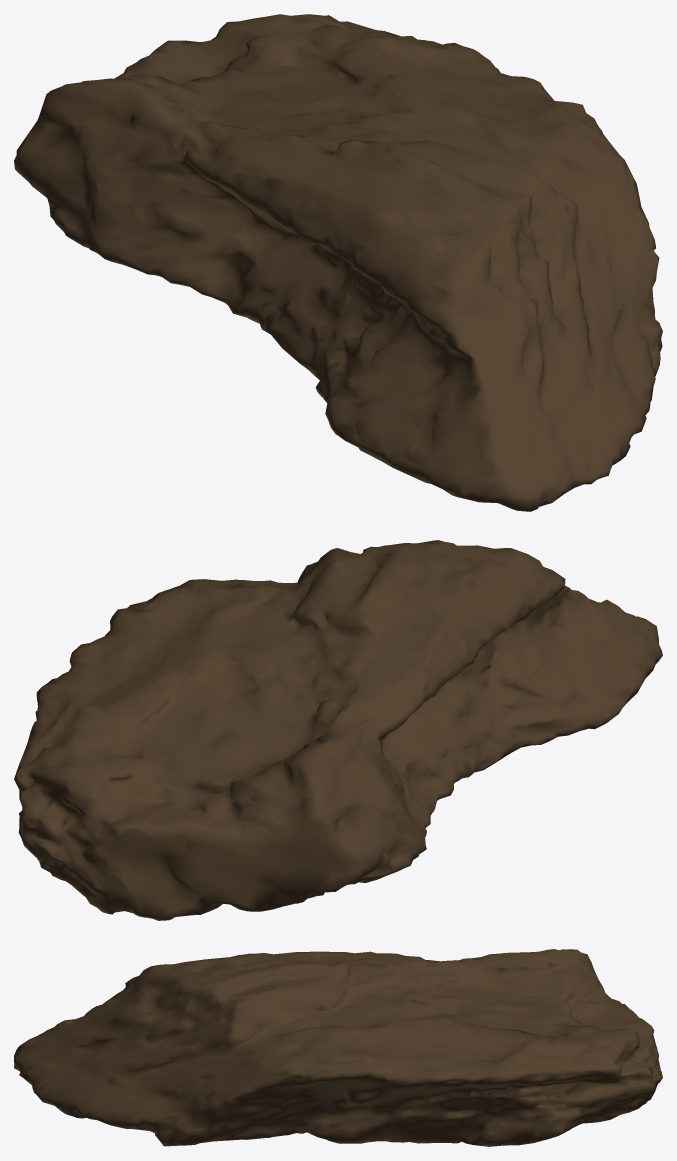
The model's file is rock_09-lod0.glb.
3 renders of one model, top to bottom at view 1: azimuth 30°, elevation 25°; view 2: azimuth 150°, elevation 25°; view 3: azimuth 270°, elevation 25°, orthographic. The views are drawn at different scales.
Visible parts, largest first — view 1: rock_09_LOD0; view 2: rock_09_LOD0; view 3: rock_09_LOD0.
Part boxes in pixels (<box>): rock_09_LOD0: <box>14,14,662,511</box>; rock_09_LOD0: <box>14,540,662,920</box>; rock_09_LOD0: <box>14,949,662,1146</box>.
Size of the model in its own units: 0.074 by 0.0329 by 0.1446.
